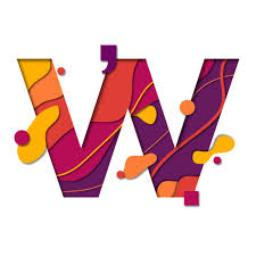w: (6, 42, 250, 210)
